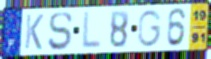6: (166, 6, 187, 48)
8: (109, 9, 130, 50)
G: (137, 9, 163, 48)
K: (23, 13, 45, 51)
L: (80, 10, 103, 51)
S: (47, 11, 74, 52)
